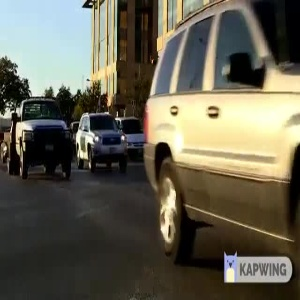suv: (71, 112, 133, 172)
truck: (7, 93, 78, 180)
